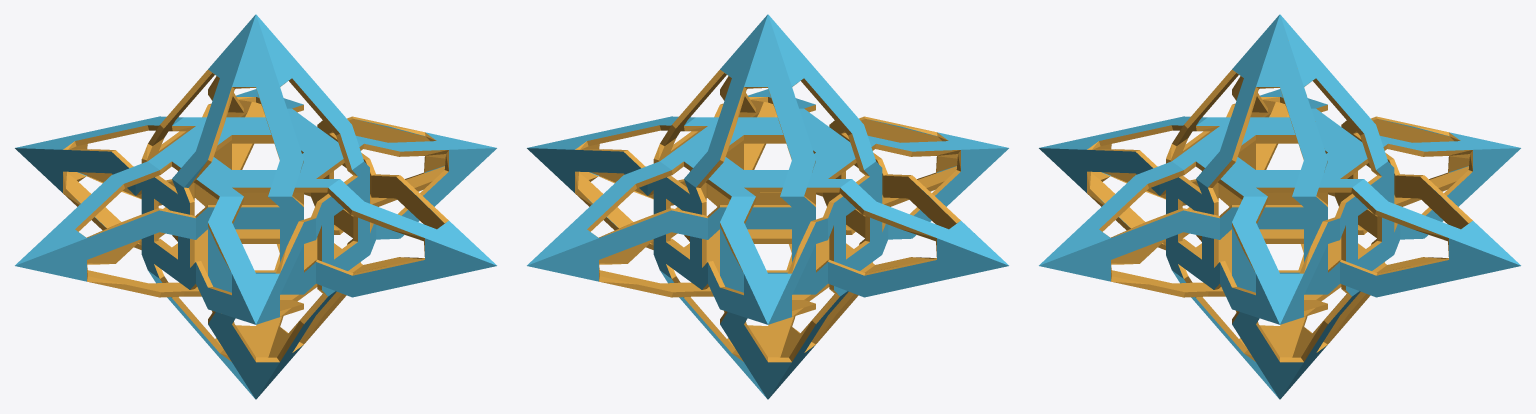
The model's file is PrismicPolyknot6.glb.
3 views of the same model, side by side, from view 1: azimuth 30°, elevation 25°; view 2: azimuth 150°, elevation 25°; view 3: azimuth 270°, elevation 25° (orthographic).
Parts seen in each view (by area): view 1: OK_ESCHER_BBBa_PRISM6; view 2: OK_ESCHER_BBBa_PRISM6; view 3: OK_ESCHER_BBBa_PRISM6.
Boxes of the visible parts, x1,y1,x2,y2 form: OK_ESCHER_BBBa_PRISM6: (15,14,496,399); OK_ESCHER_BBBa_PRISM6: (527,14,1008,399); OK_ESCHER_BBBa_PRISM6: (1039,14,1520,399).
Size of the model in its own units: 197 by 150 by 170.
